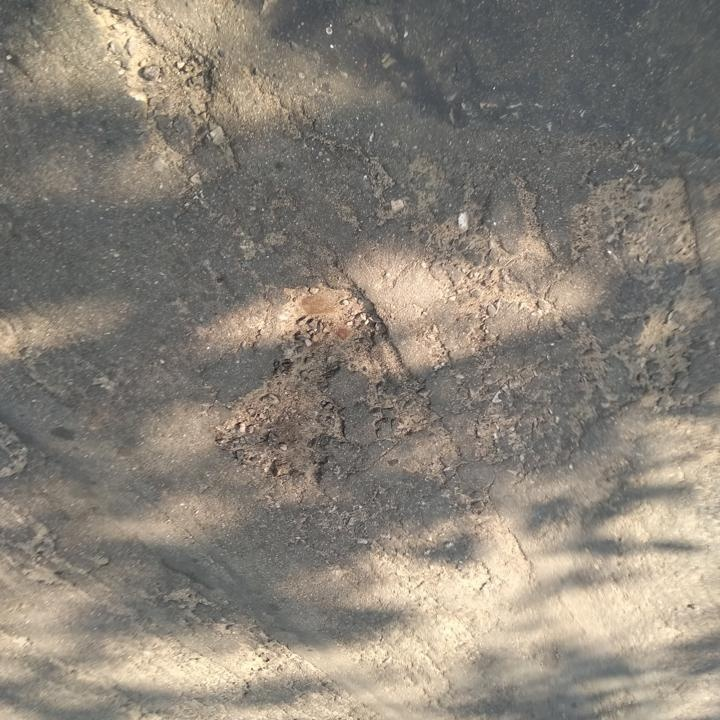pothole: (73, 4, 223, 118), (207, 380, 350, 486), (267, 281, 384, 376)
